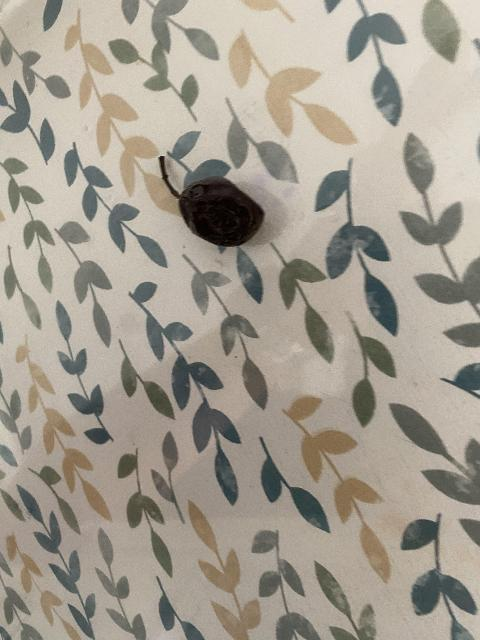Organik: (152, 159, 268, 244)
